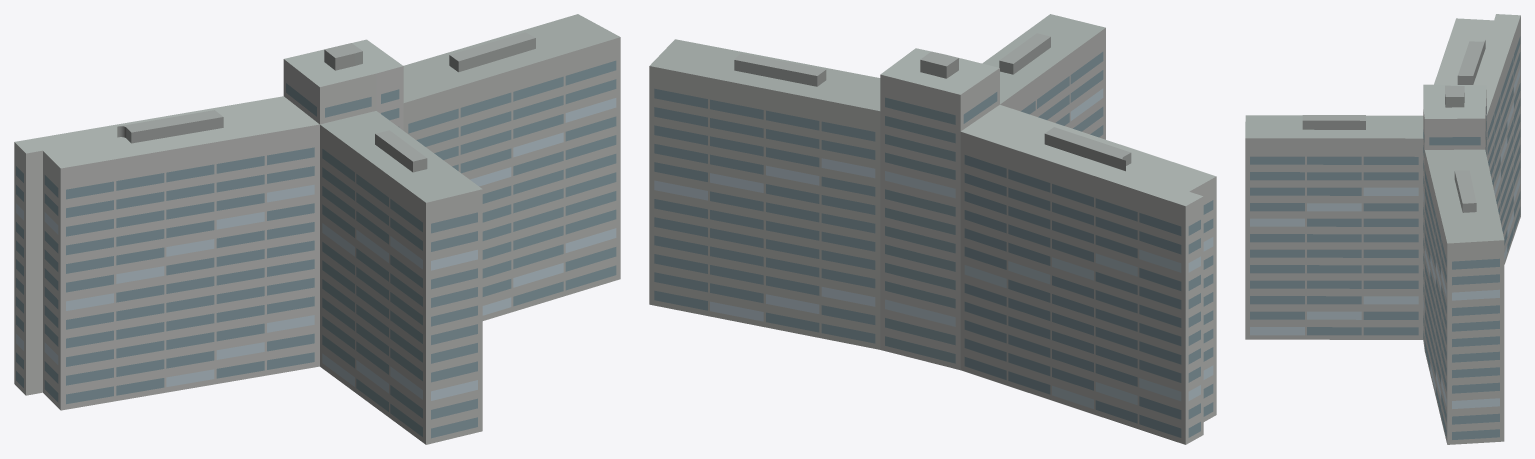
The model's file is apt-a15386404.glb.
3 renders of one model, left to right at view 1: azimuth 30°, elevation 25°; view 2: azimuth 150°, elevation 25°; view 3: azimuth 270°, elevation 25°, orthographic. The views are drawn at different scales.
Visible parts, largest first — view 1: apt-a15386404; view 2: apt-a15386404; view 3: apt-a15386404.
Boxes of the visible parts, <box> form: apt-a15386404: <box>14,14,620,444</box>; apt-a15386404: <box>649,14,1216,444</box>; apt-a15386404: <box>1245,14,1520,444</box>.
Bounding box in the file's own units: 96.9 × 47.81 × 49.19.
